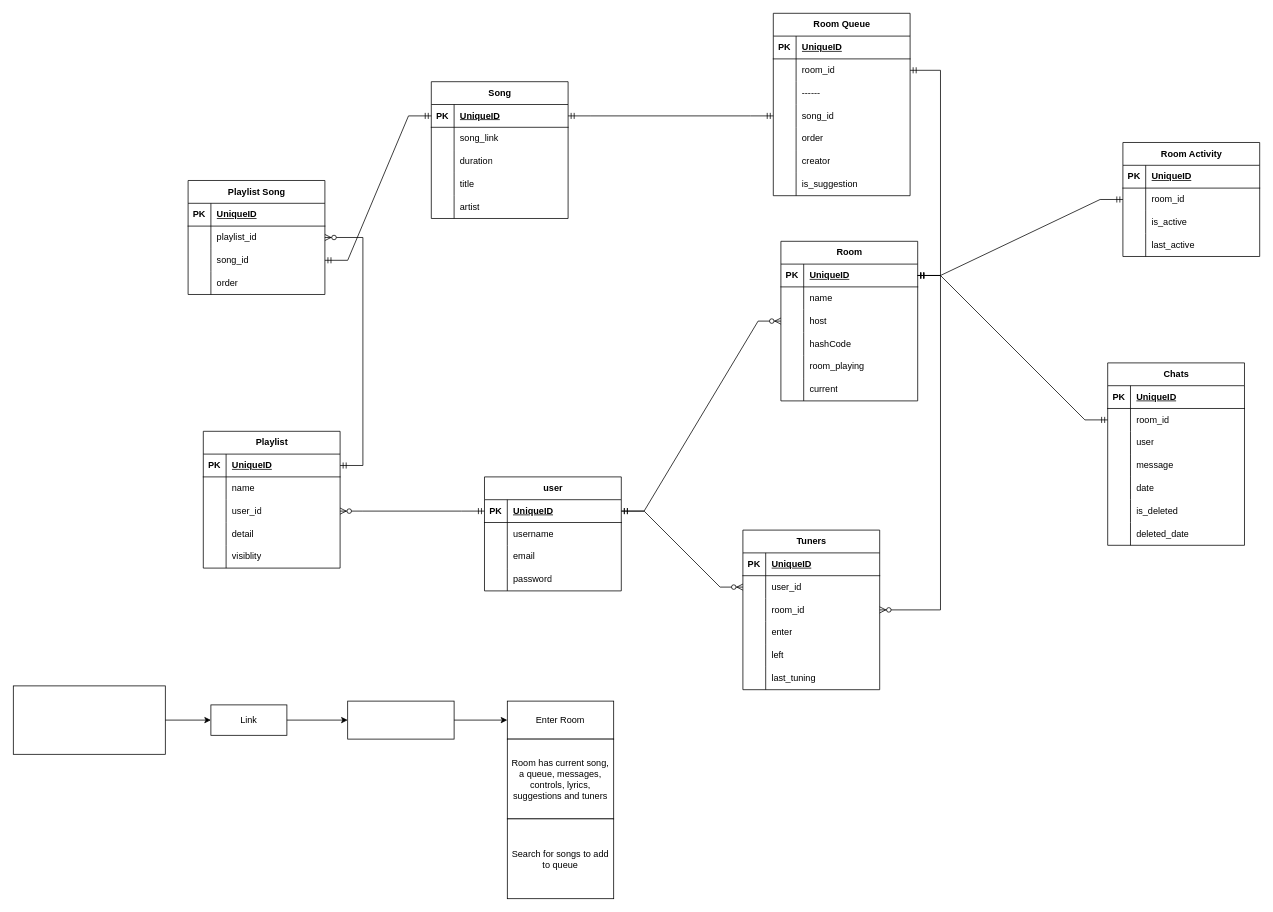
The diagram is 1273 pixels wide and 912 high, and some of its shapes have lost their labels. The centre of each missing label's shape, as x and y in pixels:
"Create Link and room code using username" belongs at point 89,719.
"Username and Room Code" belongs at point 400,719.
